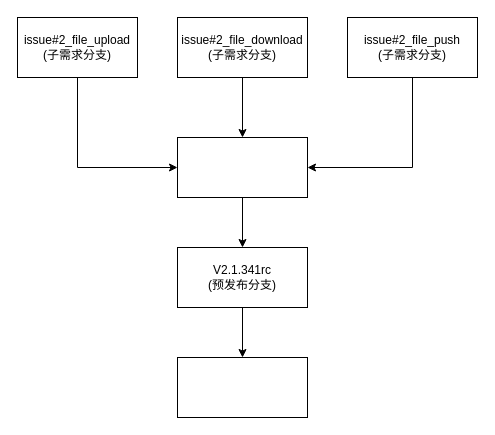
This 495x435 diagram has some shape labels left out. The centre of each missing label's shape, as x and y in pixels:
"issue#2 （需求分支)" belongs at point 242,167.
"V2.1.X (主分支)" belongs at point 242,387.
